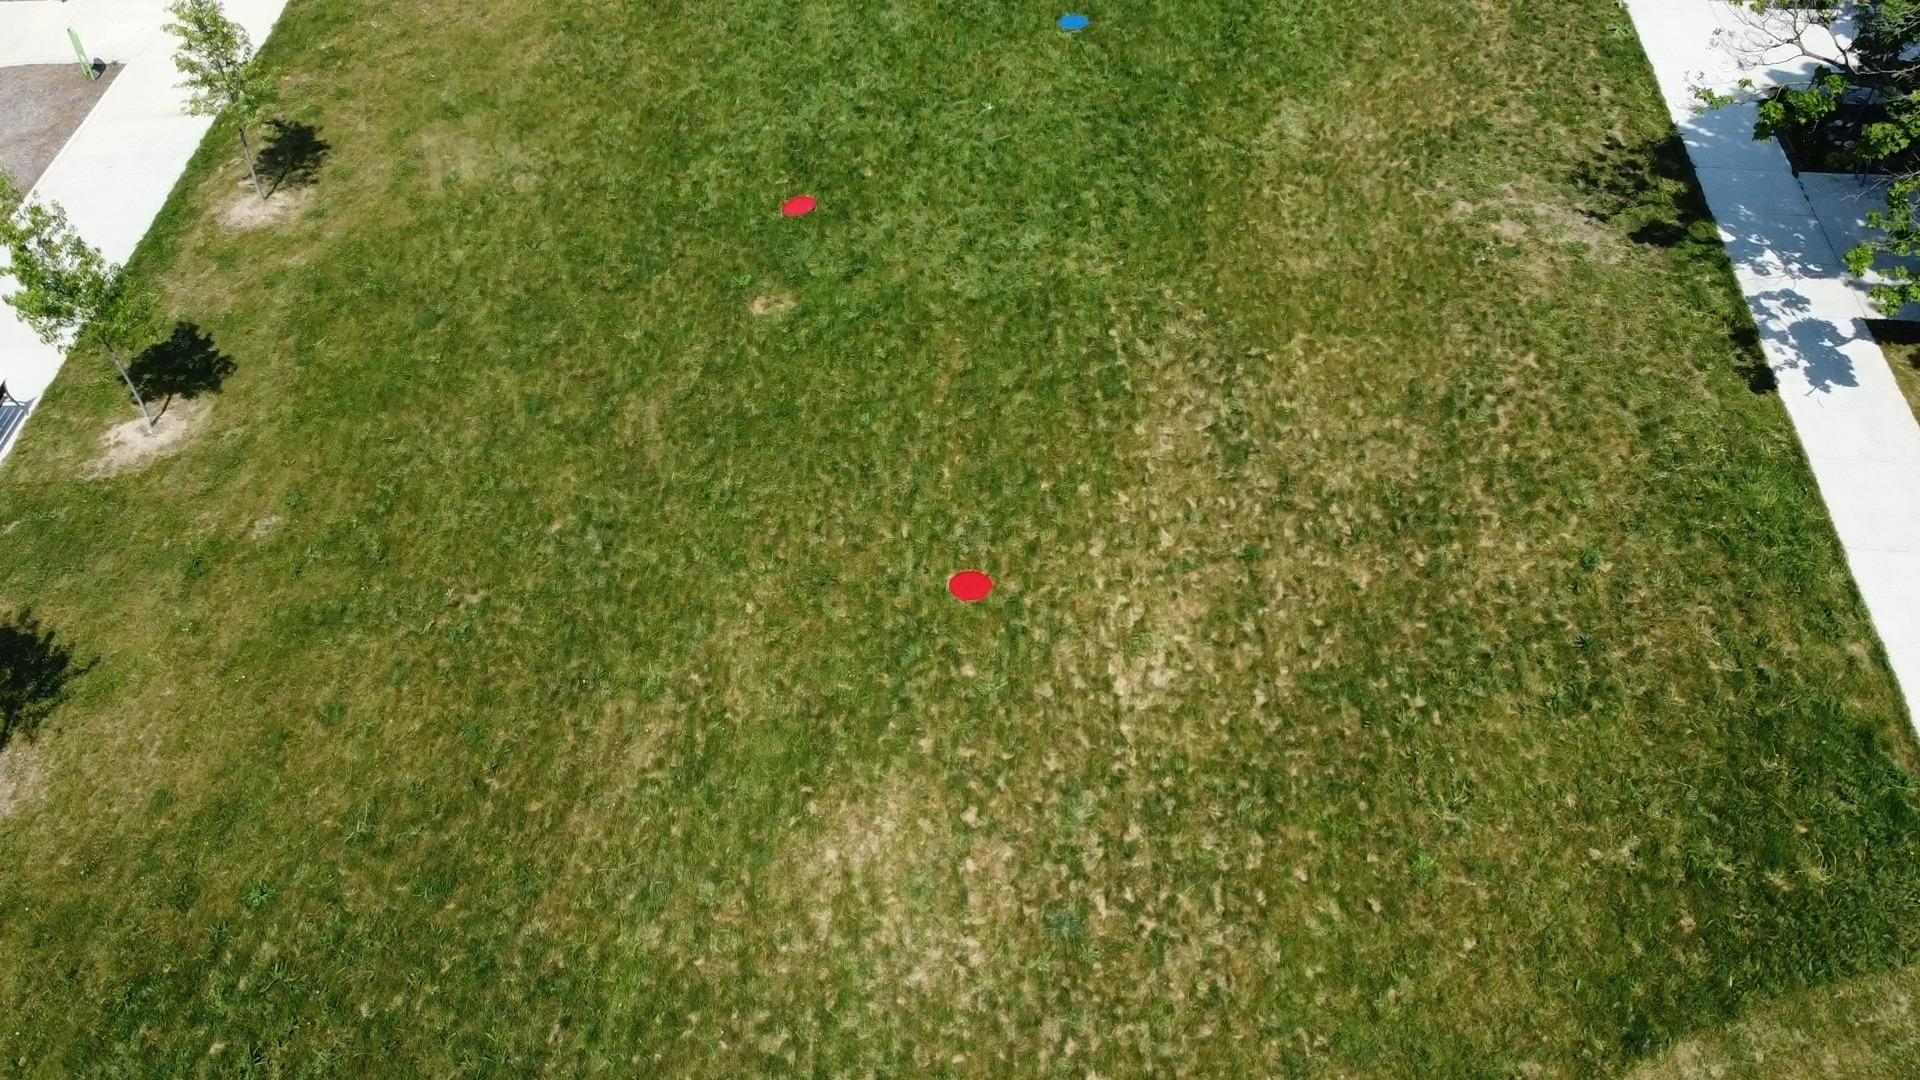Blue: (1054, 13, 1092, 34)
Red: (948, 570, 994, 603), (779, 194, 822, 220)
